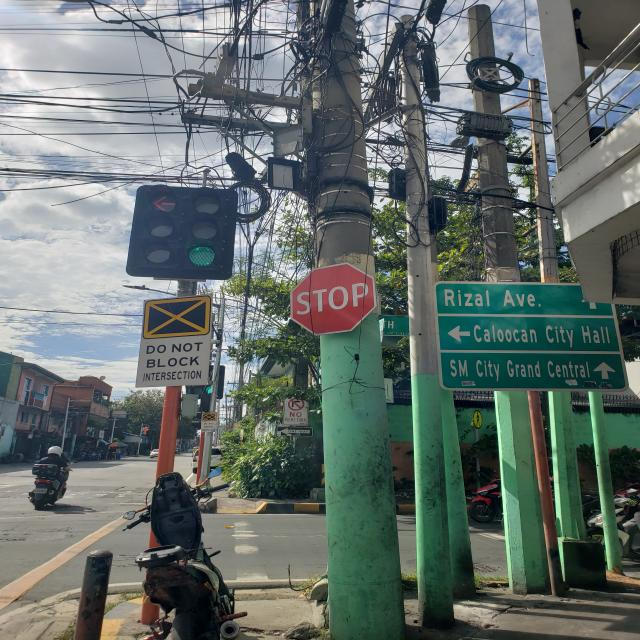stop-sign: (290, 262, 378, 336)
